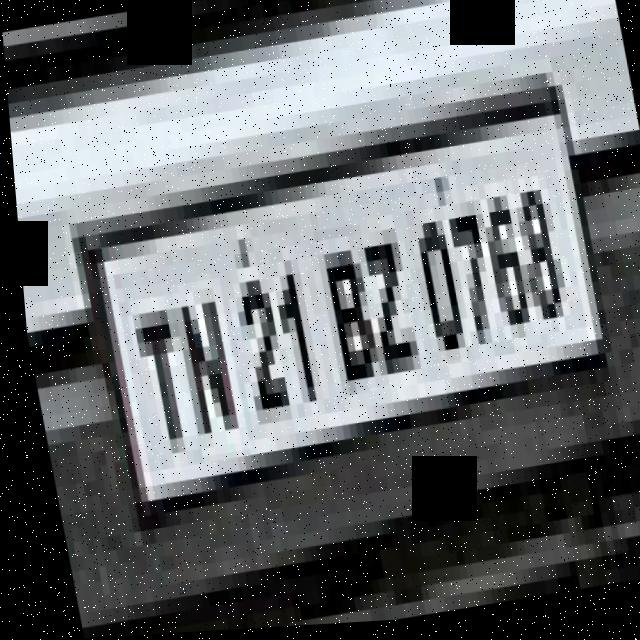0: (400, 210, 464, 369)
1: (257, 240, 320, 435)
6: (471, 182, 536, 355)
7: (438, 199, 498, 372)
8: (501, 173, 567, 336)
B: (308, 227, 383, 397)
N: (165, 279, 243, 459)
T: (121, 283, 194, 476)
Z: (353, 228, 419, 391)
